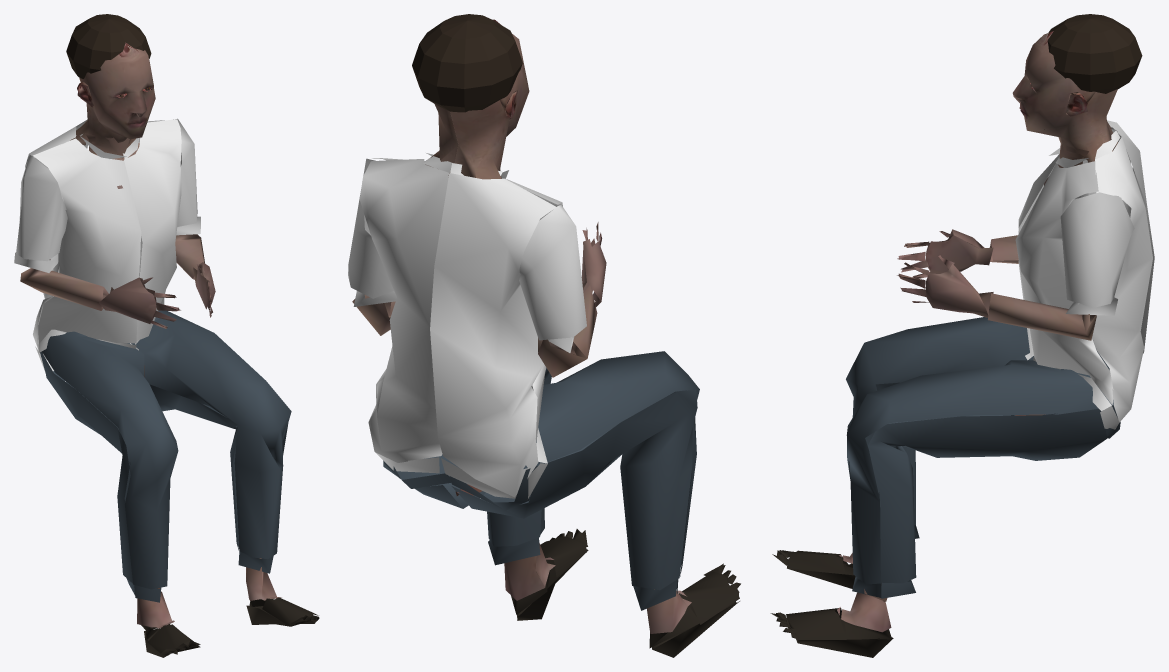
The model's file is spectator.glb.
The picture shows the model from 3 angles, left to right: view 1: azimuth 30°, elevation 25°; view 2: azimuth 150°, elevation 25°; view 3: azimuth 270°, elevation 25°; orthographic projection. The views are drawn at different scales.
Parts seen in each view (by area): view 1: Pants, Shirt, cm_vitruvian, cm_vitruvian.001, CrowdHair; view 2: Shirt, Pants, cm_vitruvian, CrowdHair, cm_vitruvian.001; view 3: Pants, Shirt, cm_vitruvian, cm_vitruvian.001, CrowdHair.
Part boxes in pixels (box(x1,y1,x2,y2)): Pants: box(40, 310, 291, 602); Shirt: box(14, 118, 200, 372); cm_vitruvian: box(20, 133, 319, 657); cm_vitruvian.001: box(70, 42, 155, 148); CrowdHair: box(66, 14, 151, 78); Shirt: box(348, 153, 586, 498); Pants: box(383, 351, 699, 610); cm_vitruvian: box(352, 165, 740, 657); CrowdHair: box(412, 14, 522, 112); cm_vitruvian.001: box(425, 19, 529, 179); Pants: box(846, 317, 1120, 598); Shirt: box(1015, 120, 1154, 429); cm_vitruvian: box(770, 144, 1096, 657); cm_vitruvian.001: box(1012, 31, 1117, 162); CrowdHair: box(1047, 14, 1142, 96).
Size of the model in its own units: 0.4714 by 1.36 by 0.7822.
12 materials, 4 textured.
